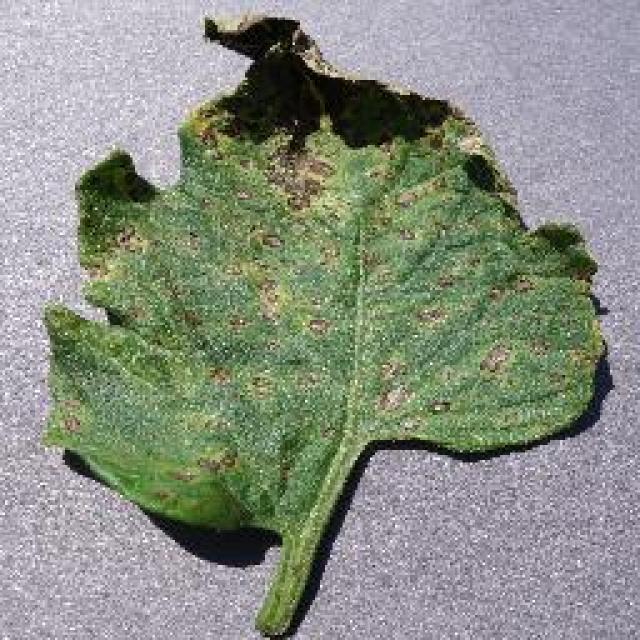Tomato Septoria spot leaf: (41, 9, 612, 544)
